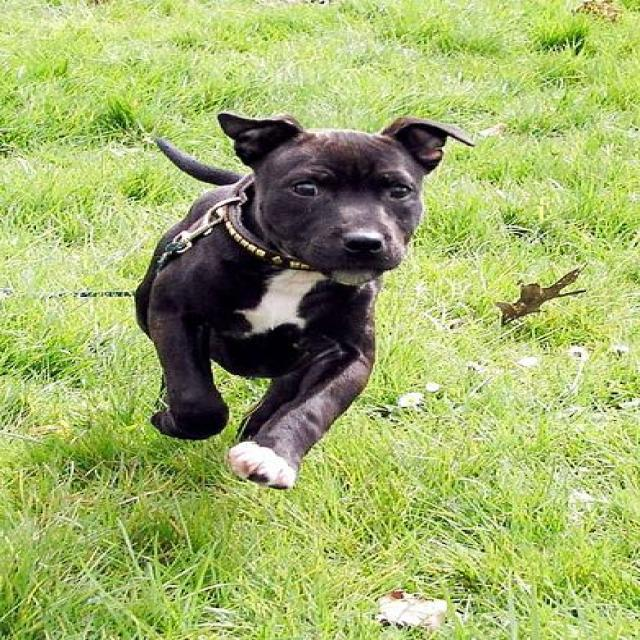staffordshire_bullterrier: (133, 109, 476, 490)
